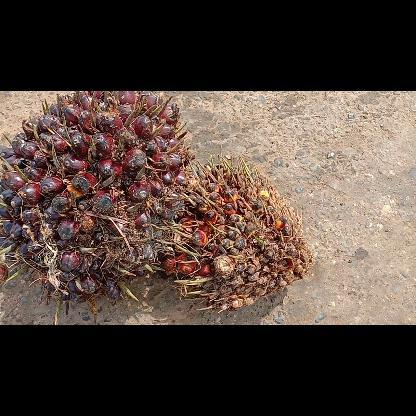Kurang masak: (0, 90, 197, 324)
TBS abnormal: (156, 154, 312, 312)
